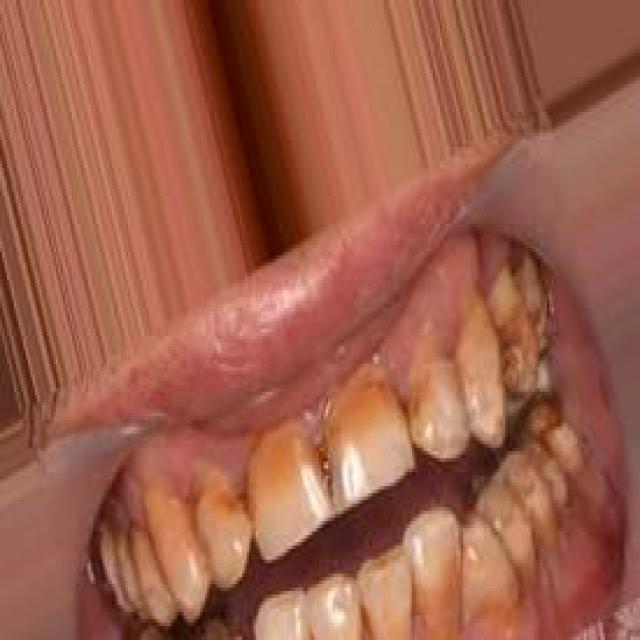caries: (495, 306, 534, 401)
